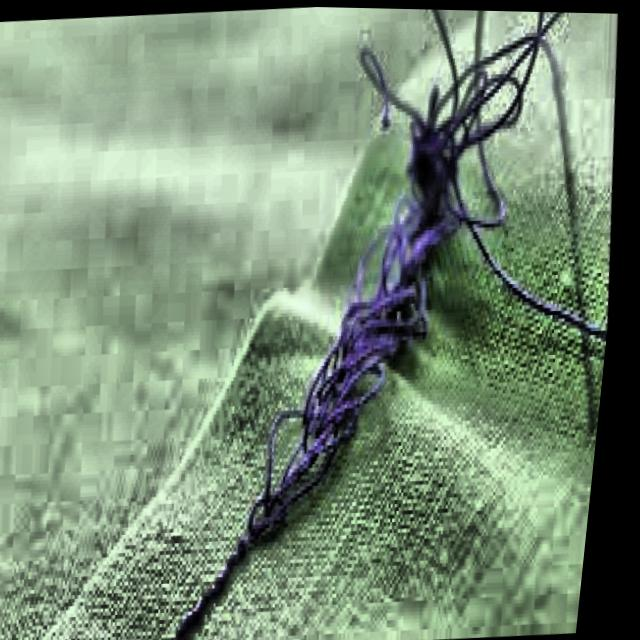Stitch: (210, 4, 640, 533)
